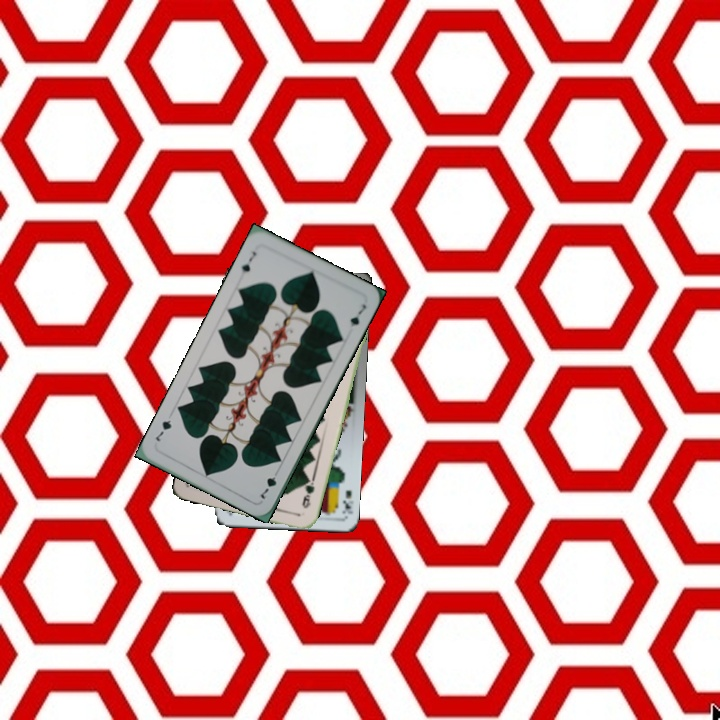EK: (338, 486, 355, 517)
G7: (256, 465, 282, 502), (237, 247, 259, 275)
G9: (298, 474, 317, 511)
